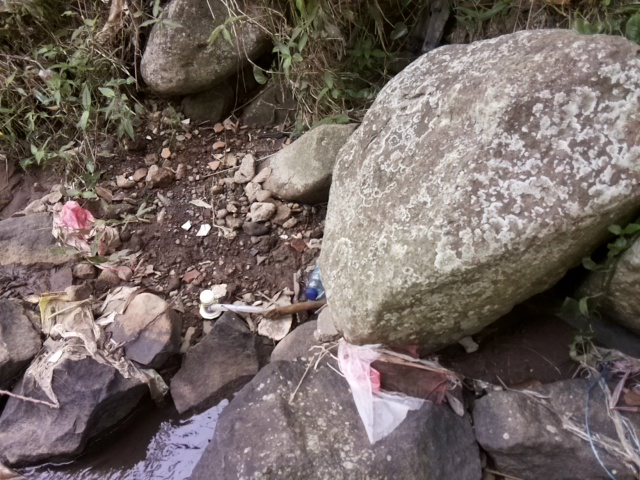Sampah_Botol_Plastik: (306, 260, 324, 302)
Sampah_Plastik: (335, 336, 460, 442), (45, 197, 102, 253), (597, 347, 640, 420)
Sampah_Styrofoam: (195, 293, 226, 318)
